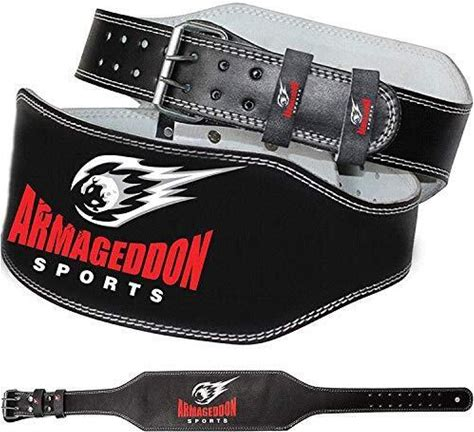cuero: (74, 4, 468, 196)
